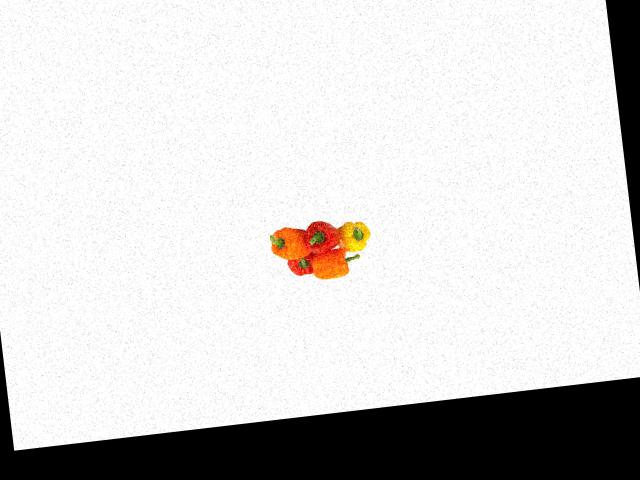bell_pepper: (259, 221, 313, 266)
